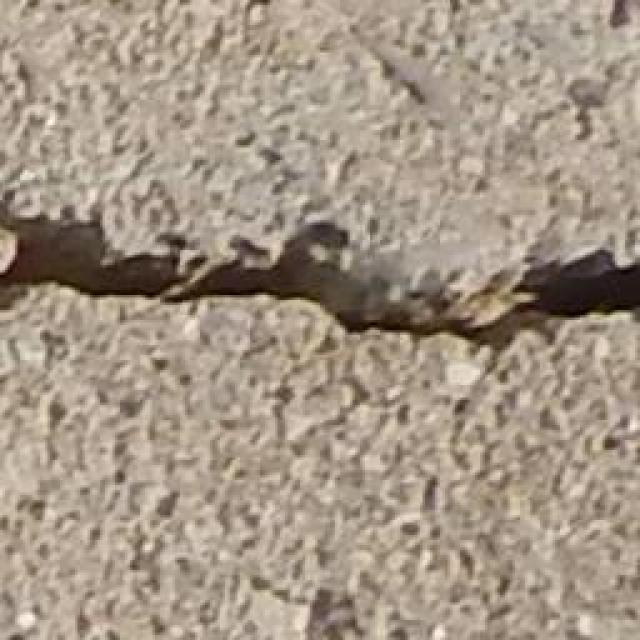concrete-crack: (0, 191, 640, 378)
